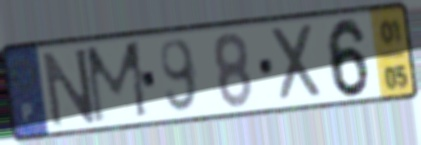6: (325, 15, 376, 100)
8: (210, 30, 256, 110)
9: (158, 37, 202, 115)
M: (82, 38, 153, 128)
N: (39, 45, 99, 131)
X: (268, 20, 327, 106)
